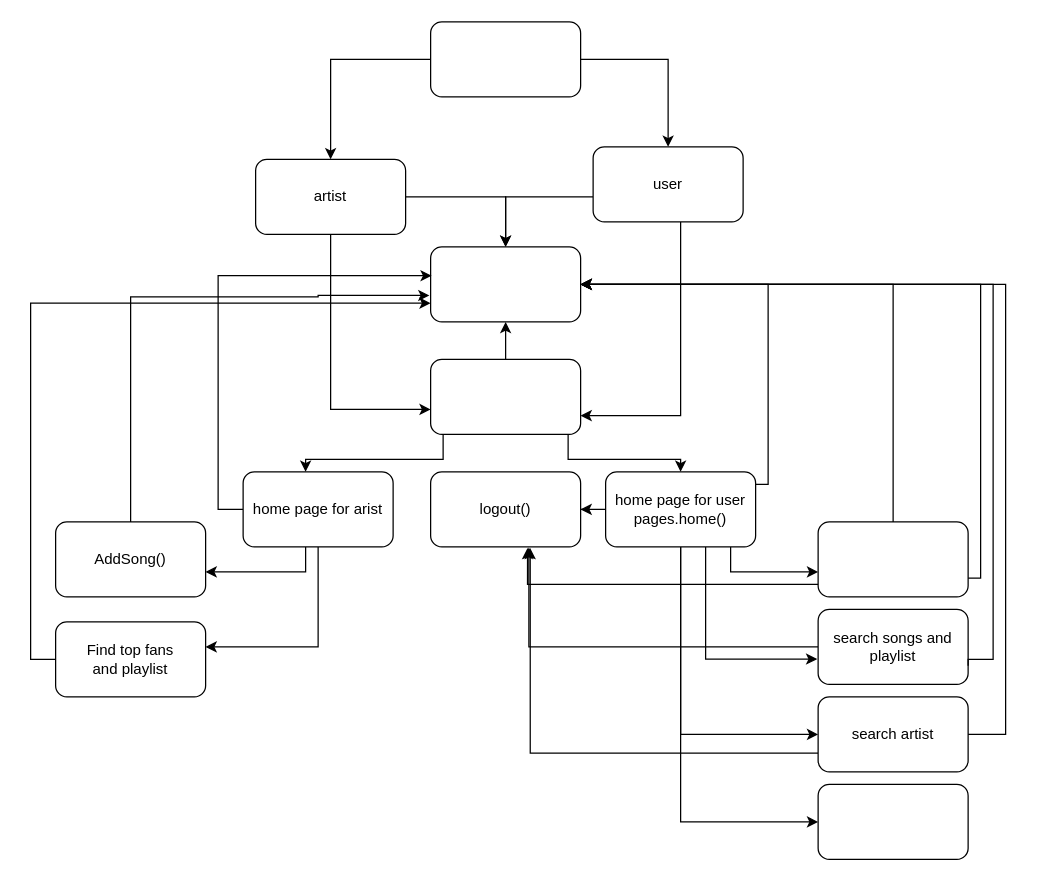
Some shapes in this 1038 by 881 pixel diagram are drawn without their labels. The box of each missing label's shape, as (x1, y1, x2, y2) in pixels:
artist or user screen: (429, 21, 581, 97)
End Session: (817, 783, 968, 859)
exit(): (429, 246, 581, 322)
log in(): (429, 358, 581, 434)
startSession(): (817, 521, 968, 597)
